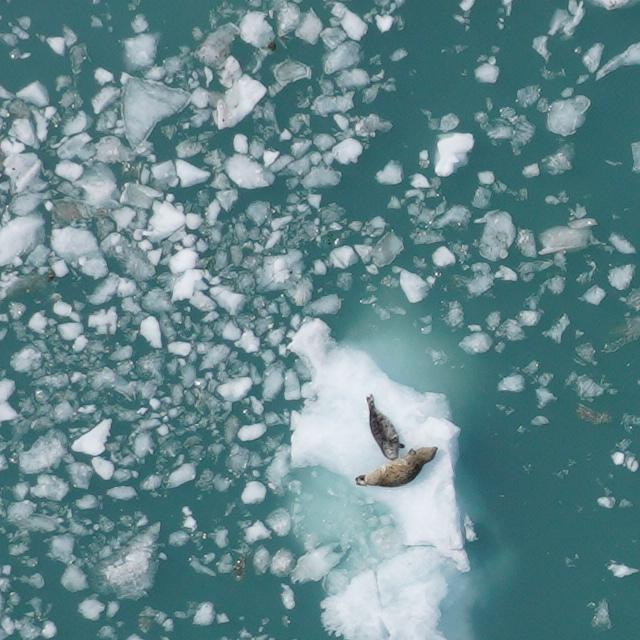seal: (354, 443, 445, 496), (355, 393, 407, 461)
